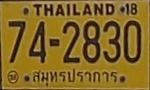0: (123, 20, 141, 62)
2: (62, 21, 79, 62)
3: (102, 20, 120, 62)
4: (28, 20, 45, 62)
7: (8, 20, 25, 62)
8: (82, 20, 99, 62)
SPK: (30, 67, 120, 89)
